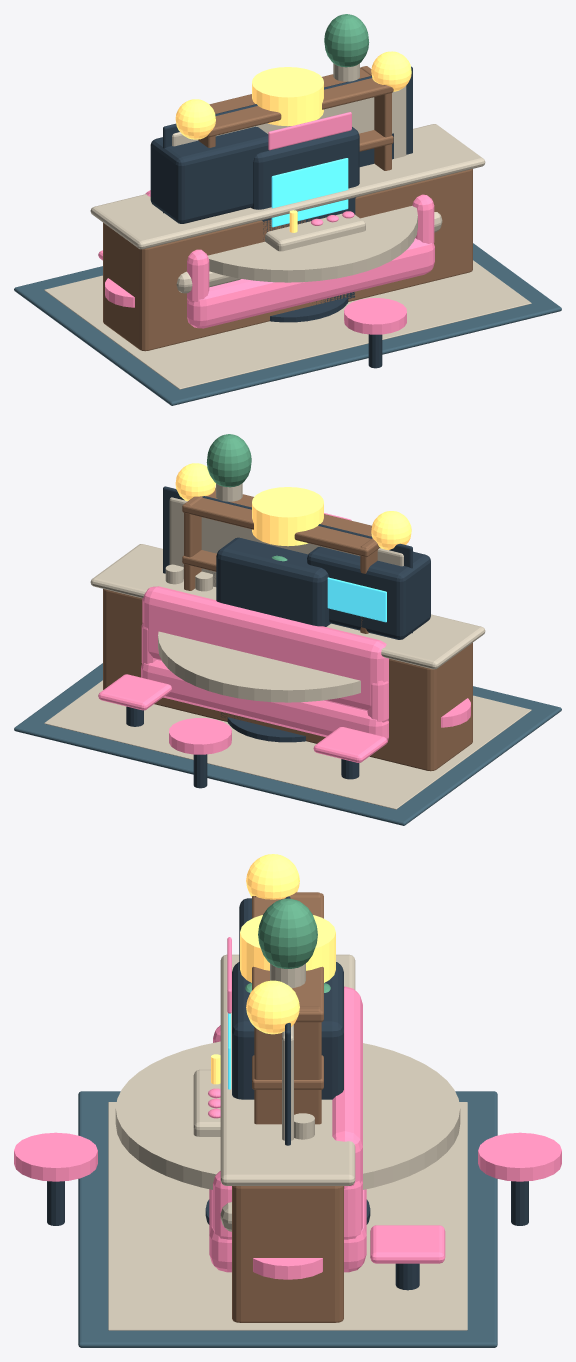
Rendered from game-kit.glb.
3 renders of one model, top to bottom at view 1: azimuth 30°, elevation 25°; view 2: azimuth 150°, elevation 25°; view 3: azimuth 270°, elevation 25°, orthographic. The views are drawn at different scales.
Visible parts, largest first — view 1: CoffeeCounter, RugBorder, Rug, CoffeeTop, CoffeeMachine, TableTop, SofaBase, ArcadeBody, LampShade, ArcadeScreen, ShelfBoard.003, Board (+15 smaller); view 2: RugBorder, CoffeeCounter, SofaBack, Rug, TableTop, ArcadeBody, CoffeeTop, CoffeeMachine, SofaBase, LampShade, ShelfBoard.003, Board (+14 smaller); view 3: RugBorder, Rug, TableTop, CoffeeCounter, CoffeeTop, ArcadeBody, ShelfPost.001, SofaBack, TableStool.001, TableStool.003, ShelfPlant, CoffeeStool.001 (+15 smaller).
Boxes of the visible parts, left/top/right/bottom form: CoffeeCounter: left=103, top=169, right=472, bottom=351; RugBorder: left=44, top=260, right=531, bottom=389; Rug: left=14, top=243, right=561, bottom=405; CoffeeTop: left=90, top=124, right=485, bottom=249; CoffeeMachine: left=150, top=126, right=269, bottom=223; TableTop: left=208, top=206, right=417, bottom=282; SofaBase: left=187, top=238, right=434, bottom=328; ArcadeBody: left=251, top=127, right=359, bottom=304; LampShade: left=252, top=67, right=323, bottom=126; ArcadeScreen: left=271, top=158, right=348, bottom=227; ShelfBoard.003: left=207, top=67, right=393, bottom=137; Board: left=172, top=86, right=406, bottom=158; RugBorder: left=44, top=680, right=531, bottom=809; CoffeeCounter: left=103, top=589, right=472, bottom=771; SofaBack: left=142, top=586, right=388, bottom=710; Rug: left=14, top=663, right=561, bottom=825; TableTop: left=158, top=631, right=360, bottom=702; ArcadeBody: left=216, top=537, right=330, bottom=718; CoffeeTop: left=90, top=544, right=485, bottom=669; CoffeeMachine: left=307, top=546, right=430, bottom=639; SofaBase: left=141, top=660, right=388, bottom=742; LampShade: left=252, top=487, right=323, bottom=546; ShelfBoard.003: left=182, top=487, right=379, bottom=557; Board: left=169, top=497, right=403, bottom=586; RugBorder: left=108, top=1102, right=467, bottom=1330; Rug: left=78, top=1091, right=497, bottom=1347; TableTop: left=115, top=1041, right=460, bottom=1189; CoffeeCounter: left=232, top=1186, right=343, bottom=1322; CoffeeTop: left=220, top=954, right=355, bottom=1185; ArcadeBody: left=232, top=962, right=343, bottom=1099; ShelfPost.001: left=254, top=1006, right=321, bottom=1124; SofaBack: left=332, top=986, right=362, bottom=1188; TableStool.001: left=478, top=1132, right=561, bottom=1181; TableStool.003: left=14, top=1132, right=97, bottom=1181; ShelfPlant: left=258, top=898, right=317, bottom=968; CoffeeStool.001: left=370, top=1225, right=445, bottom=1263.
Size of the model in its own units: 4 by 2.65 by 3.66.
